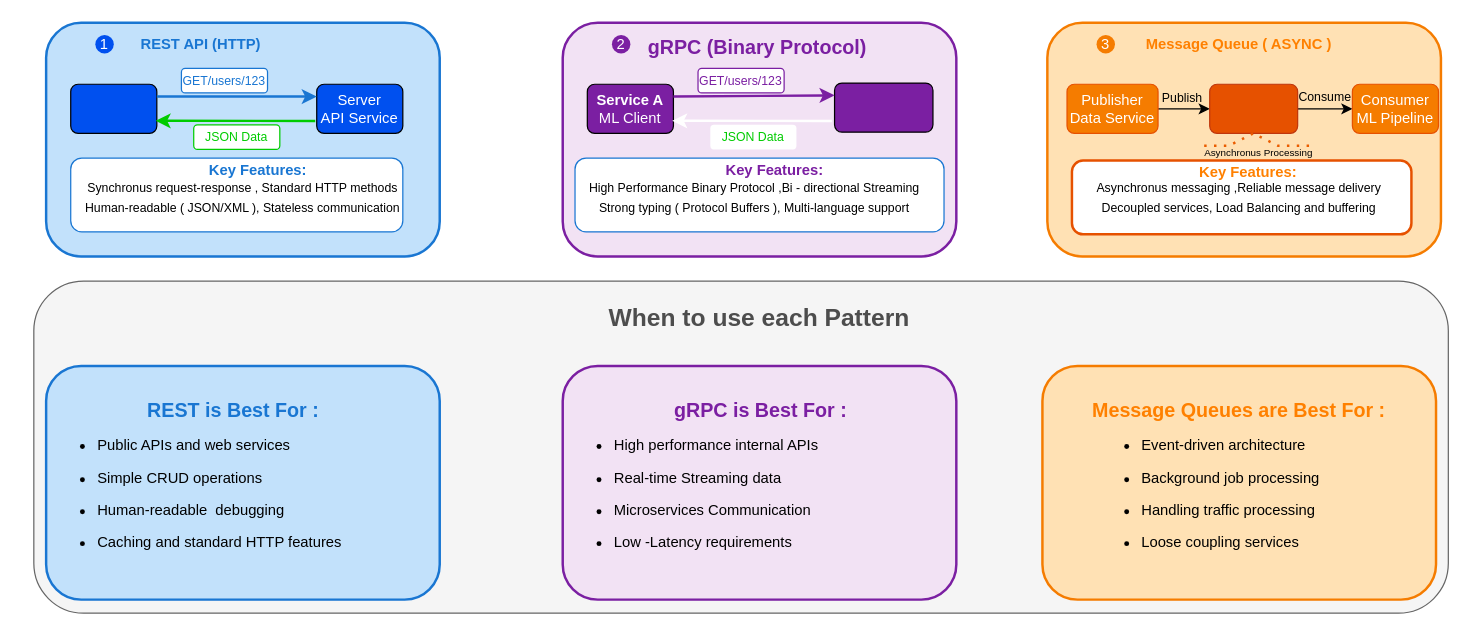
The diagram is 1481 pixels wide and 635 high, and some of its shapes have lost their labels. The box of each missing label's shape, as (x1, y1, x2, y2) in pixels:
Client web app: (69, 83, 157, 133)
Message Queue: (1208, 83, 1298, 133)
Servive B Prediction API: (833, 82, 933, 132)
